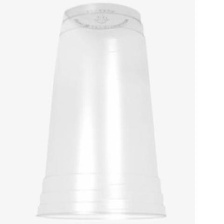glass: (33, 0, 171, 223)
